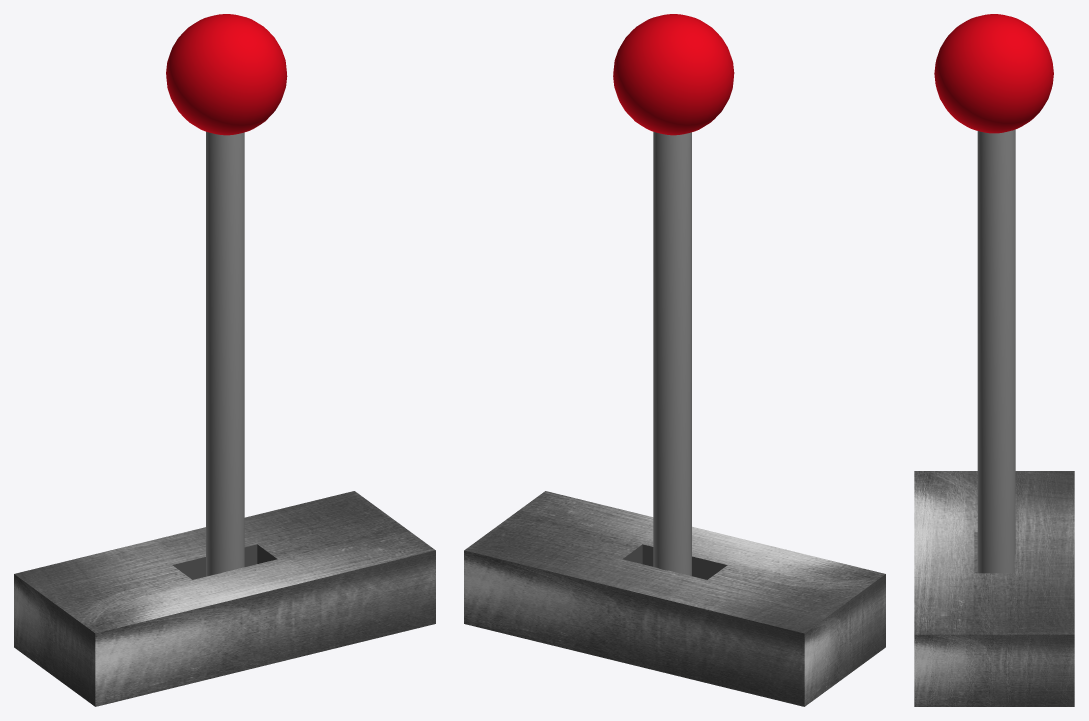
Rendered from Lever.fbx.
The picture shows the model from 3 angles, left to right: view 1: azimuth 30°, elevation 25°; view 2: azimuth 150°, elevation 25°; view 3: azimuth 270°, elevation 25°; orthographic projection.
Parts seen in each view (by area): view 1: Cube, Cylinder, Sphere; view 2: Cube, Cylinder, Sphere; view 3: Cube, Cylinder, Sphere.
Part boxes in pixels (x1,y1,x2,y2): Cube: [14, 491, 435, 706]; Cylinder: [206, 131, 244, 576]; Sphere: [166, 14, 287, 135]; Cube: [464, 491, 885, 706]; Cylinder: [653, 131, 691, 575]; Sphere: [613, 14, 734, 135]; Cube: [914, 471, 1074, 706]; Cylinder: [977, 129, 1015, 573]; Sphere: [934, 14, 1053, 133].
Bounding box in the file's own units: 2 × 3.46 × 0.8276.
3 materials, 1 textured.
